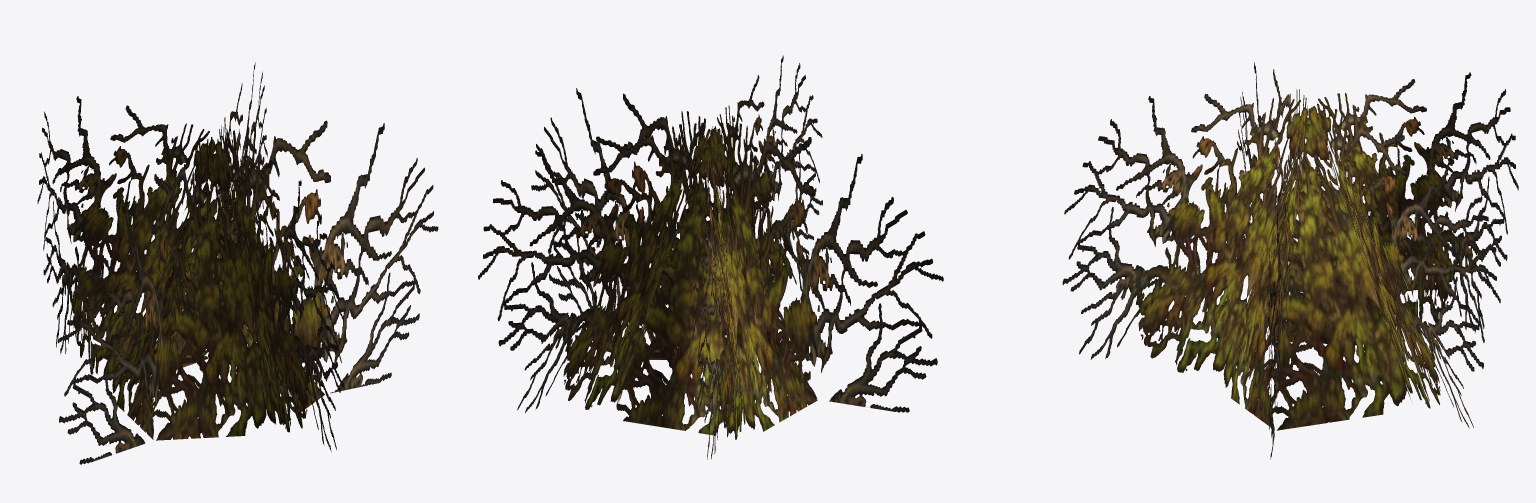
File: dustwallowbush01.obj
3 renders of one model, left to right at view 1: azimuth 30°, elevation 25°; view 2: azimuth 150°, elevation 25°; view 3: azimuth 270°, elevation 25°, orthographic. The views are drawn at different scales.
Visible parts, largest first — view 1: DUSTWALLOWBUSH010; view 2: DUSTWALLOWBUSH010; view 3: DUSTWALLOWBUSH010.
Boxes of the visible parts, left/top/right/bottom form: DUSTWALLOWBUSH010: left=37, top=62, right=438, bottom=464; DUSTWALLOWBUSH010: left=478, top=55, right=943, bottom=459; DUSTWALLOWBUSH010: left=1062, top=62, right=1518, bottom=459.
Bounding box in the file's own units: 3.65 × 2.37 × 3.44.
Materials: 1 (1 with a texture image).
